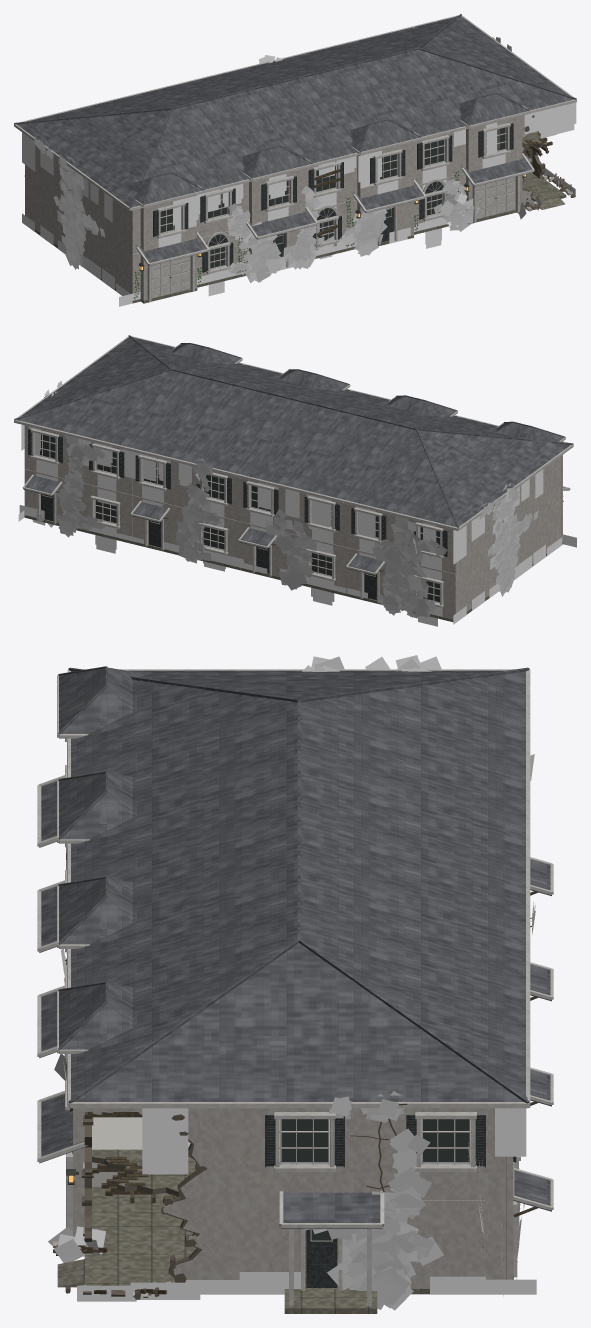
The model's file is kit_row4_damaged_v2.glb.
3 renders of one model, top to bottom at view 1: azimuth 30°, elevation 25°; view 2: azimuth 150°, elevation 25°; view 3: azimuth 270°, elevation 25°, orthographic. The views are drawn at different scales.
Visible parts, largest first — view 1: Unit_01_Batched.002, Roof_Left_Shingled.003, Roof_Middle_Shingled.007, Roof_Middle_Shingled.006, kit_row4_damaged_Grime, kit_row4_damaged_Ivy, Roof_Right_Shingled.001, Unit_03_Batched.002, Unit_02_Batched.003, Unit_RightEnd_Base_DamageReady_Batched, Roof_Left_Eave_Trim.003, Projecting_Bay_Shingle_Cap.001 (+10 smaller); view 2: kit_row4_damaged_Ivy, Roof_Left_Shingled.003, Roof_Middle_Shingled.006, Roof_Middle_Shingled.007, kit_row4_damaged_Grime, Unit_01_Batched.002, Roof_Right_Shingled.001, Unit_03_Batched.002, Unit_RightEnd_Base_DamageReady_Batched, Unit_02_Batched.003, Roof_Left_Eave_Trim.003, Roof_Right_Eave_Trim.001 (+6 smaller); view 3: Unit_RightEnd_Base_DamageReady_Batched, Roof_Right_Shingled.001, Roof_Middle_Shingled.006, Roof_Middle_Shingled.007, Roof_Left_Shingled.003, kit_row4_damaged_Ivy, kit_row4_damaged_Grime, Corner_Damaged_Batched, Roof_Right_Eave_Trim.001, Projecting_Bay_Shingle_Cap.001, Projecting_Bay_Shingle_Cap.004, Projecting_Bay_Shingle_Cap.012 (+8 smaller).
Part boxes in pixels (<box>): Unit_01_Batched.002: <box>24,145,242,303</box>; Roof_Left_Shingled.003: <box>17,96,243,207</box>; Roof_Middle_Shingled.007: <box>239,43,460,153</box>; Roof_Middle_Shingled.006: <box>131,70,351,179</box>; kit_row4_damaged_Grime: <box>22,102,576,306</box>; kit_row4_damaged_Ivy: <box>34,18,541,282</box>; Roof_Right_Shingled.001: <box>347,16,572,126</box>; Unit_03_Batched.002: <box>349,132,459,250</box>; Unit_02_Batched.003: <box>241,161,350,276</box>; Unit_RightEnd_Base_DamageReady_Batched: <box>457,115,566,224</box>; Roof_Left_Eave_Trim.003: <box>14,95,245,210</box>; Projecting_Bay_Shingle_Cap.001: <box>123,172,202,204</box>; kit_row4_damaged_Ivy: <box>32,380,538,618</box>; Roof_Left_Shingled.003: <box>345,417,570,527</box>; Roof_Middle_Shingled.006: <box>237,390,457,499</box>; Roof_Middle_Shingled.007: <box>130,364,349,473</box>; kit_row4_damaged_Grime: <box>18,424,576,626</box>; Unit_01_Batched.002: <box>346,455,570,621</box>; Roof_Right_Shingled.001: <box>16,337,242,447</box>; Unit_03_Batched.002: <box>130,455,240,569</box>; Unit_RightEnd_Base_DamageReady_Batched: <box>22,425,132,543</box>; Unit_02_Batched.003: <box>238,478,347,596</box>; Roof_Left_Eave_Trim.003: <box>344,416,573,530</box>; Roof_Right_Eave_Trim.001: <box>14,335,243,450</box>; Unit_RightEnd_Base_DamageReady_Batched: <box>37,1054,553,1313</box>; Roof_Right_Shingled.001: <box>71,927,527,1101</box>; Roof_Middle_Shingled.006: <box>71,717,525,886</box>; Roof_Middle_Shingled.007: <box>71,822,525,991</box>; Roof_Left_Shingled.003: <box>71,670,525,780</box>; kit_row4_damaged_Ivy: <box>48,655,535,1310</box>; kit_row4_damaged_Grime: <box>77,1108,536,1301</box>; Corner_Damaged_Batched: <box>57,1108,207,1287</box>; Roof_Right_Eave_Trim.001: <box>67,924,530,1108</box>; Projecting_Bay_Shingle_Cap.001: <box>59,667,148,733</box>; Projecting_Bay_Shingle_Cap.004: <box>59,773,132,839</box>; Projecting_Bay_Shingle_Cap.012: <box>59,878,132,944</box>.
Bounding box in the file's own units: 32.03 × 9.79 × 15.36.
16 materials, 6 textured.
